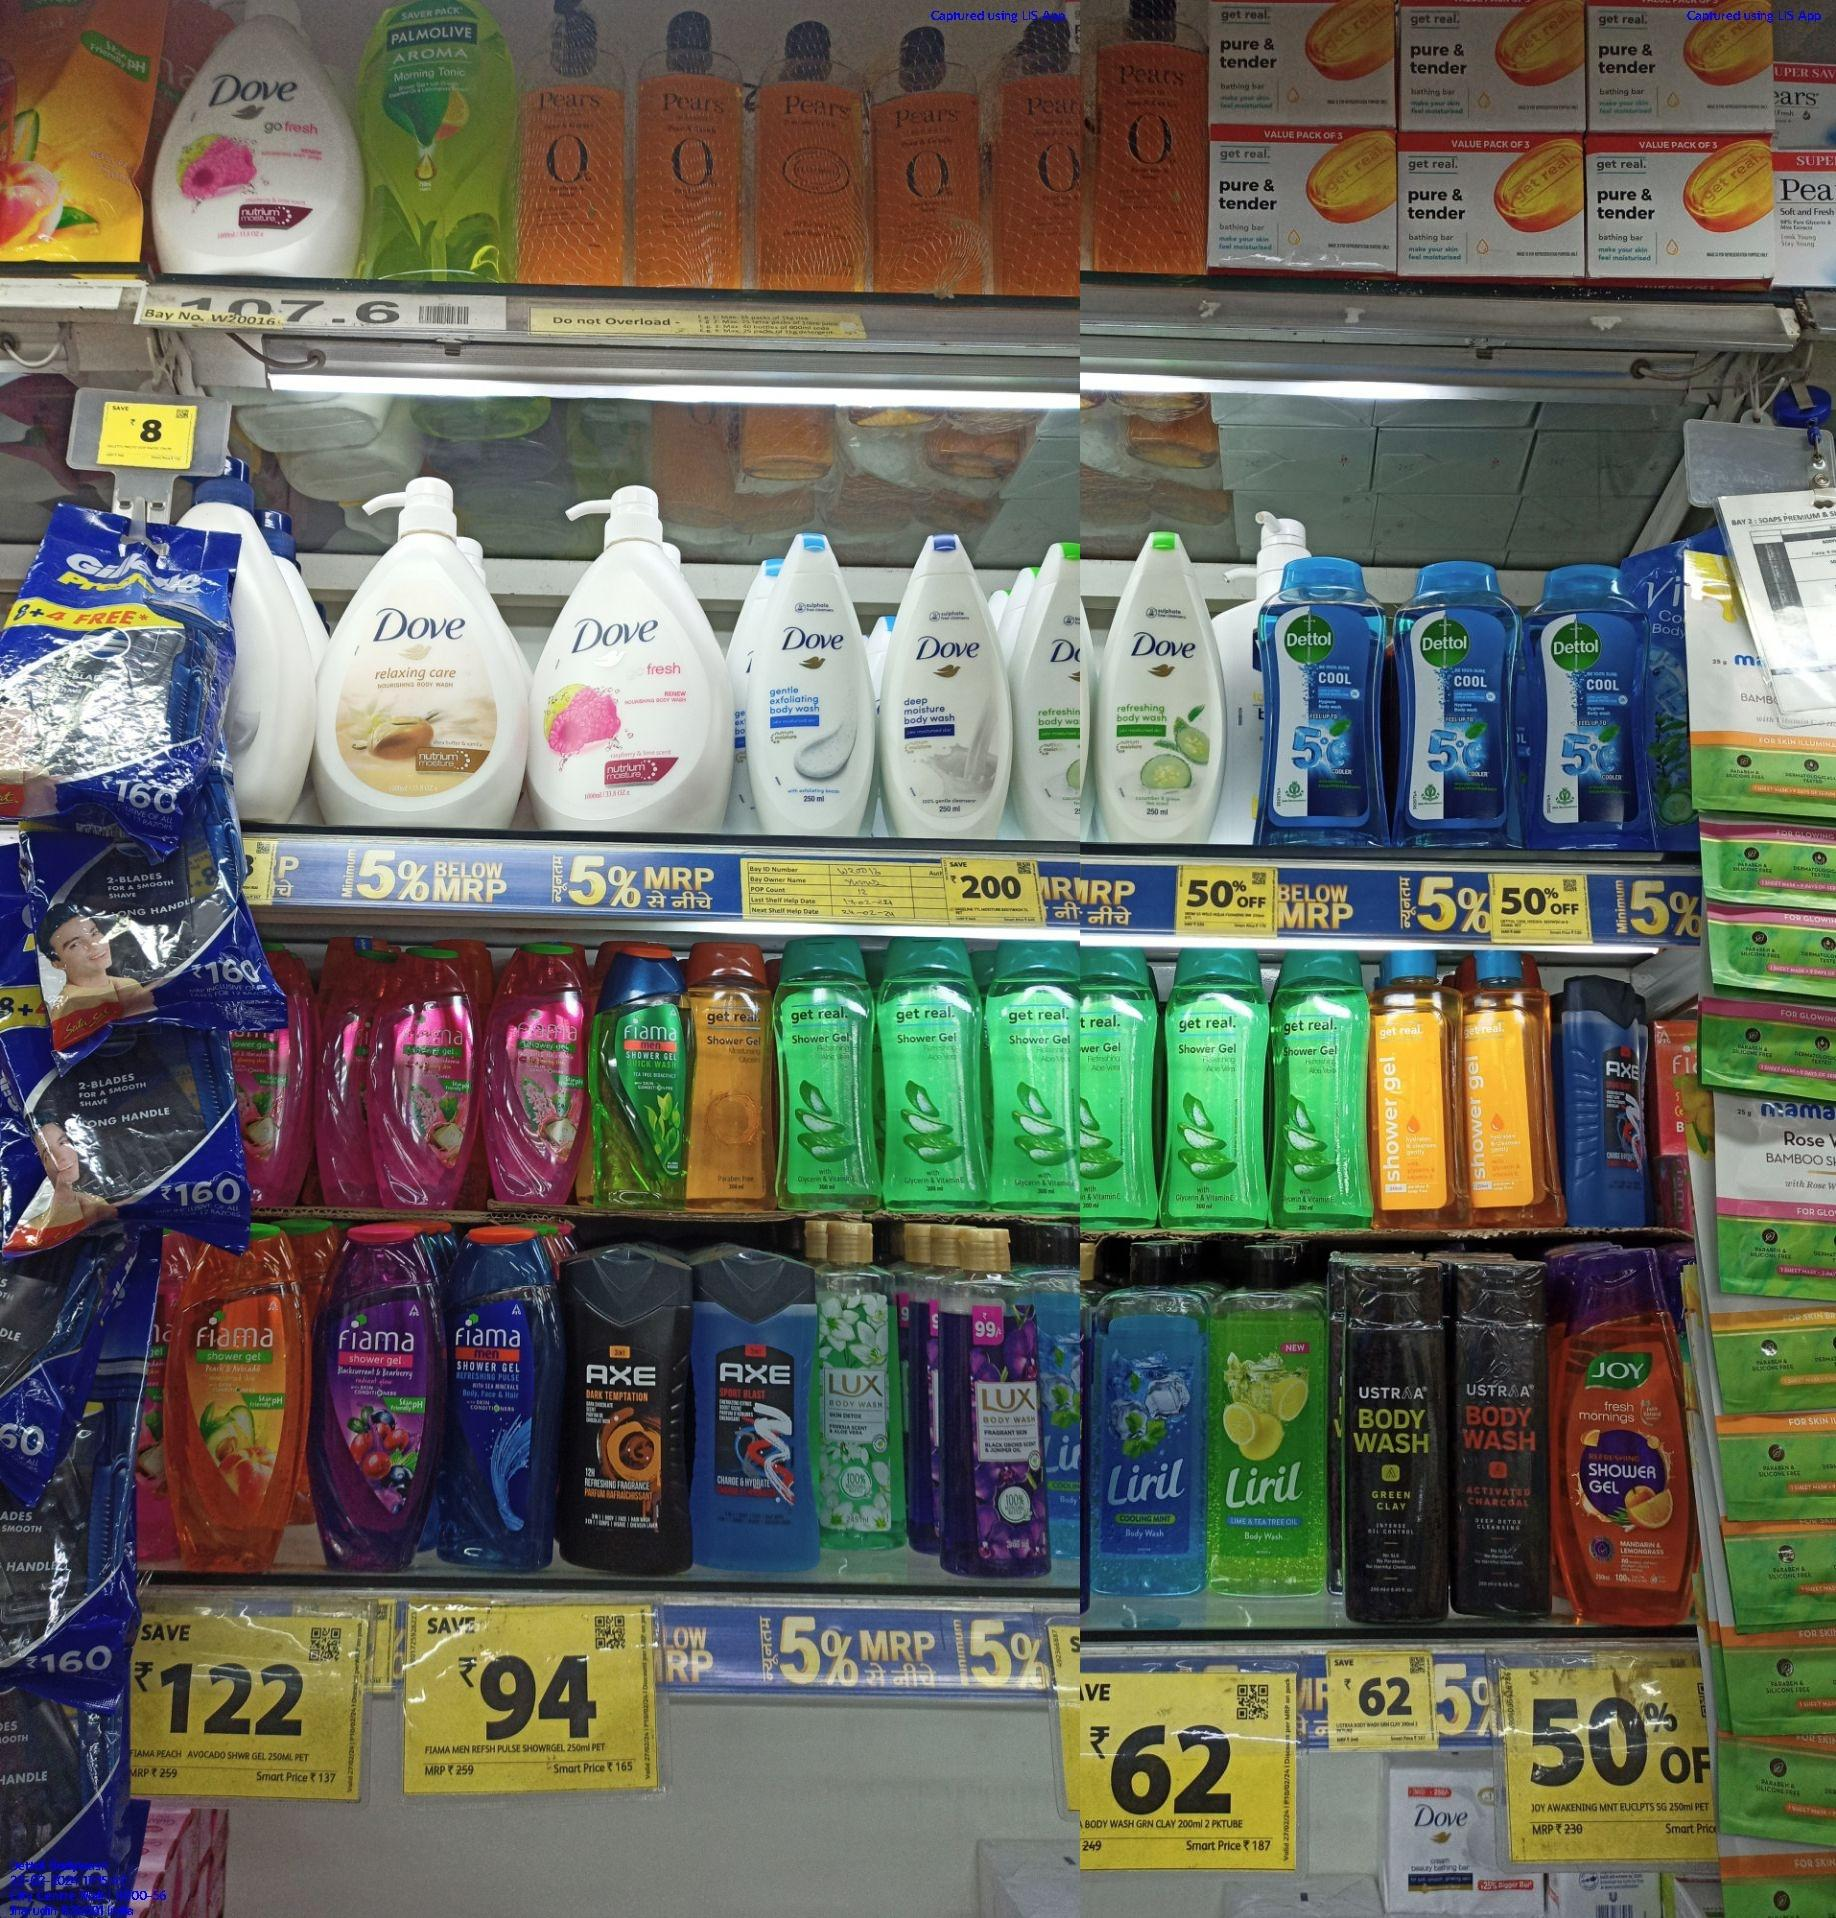Dettol_Bodywash_Cool: (1524, 560, 1653, 846), (1262, 557, 1384, 849), (1392, 550, 1511, 844)
Dove_Deep_Moisture_Body_Wash_250ML: (880, 531, 1009, 831)
Dove_Gentle_Exfoliating_Body_Wash_250ML: (750, 531, 870, 831)
Dove_Refreshing_Body_Wash_250ML: (1096, 517, 1223, 836)
Fiama_Shower_Gel_Patchouli_and_Macadamia_250ML: (367, 944, 476, 1199), (492, 932, 584, 1199)
Fiama_Shower_Gel_Peach_and_Avocado_250ML: (168, 1231, 305, 1569)
Get_Real_Shower_Gel_Moisturising_Glycerin_300ML: (688, 942, 772, 1199)
Joy_Shower_Gel_Mandarin_and_Lemongrass_250ML: (1557, 1254, 1692, 1623)
Liril_Cooling_Mint_Body_Wash_250ML: (1094, 1235, 1202, 1594)
Liril_Lime_and_Tea_Tree_Oil_Body_Wash_250ML: (1216, 1250, 1326, 1594)
Lux_Black_Orchid_Scent_and_Juniper_Oil_Body_Wash_245ML: (940, 1209, 1050, 1575)
Lux_Body_Wash_Skin_Detox_Freesia_Scent_and_Alove_Vera_245ML: (819, 1214, 906, 1548)
